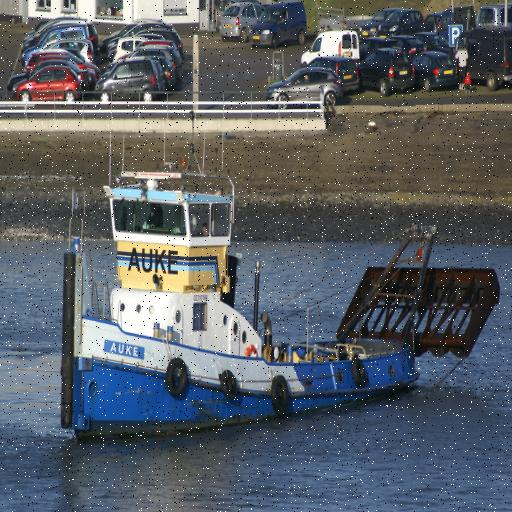tugboat: (60, 162, 503, 450)
